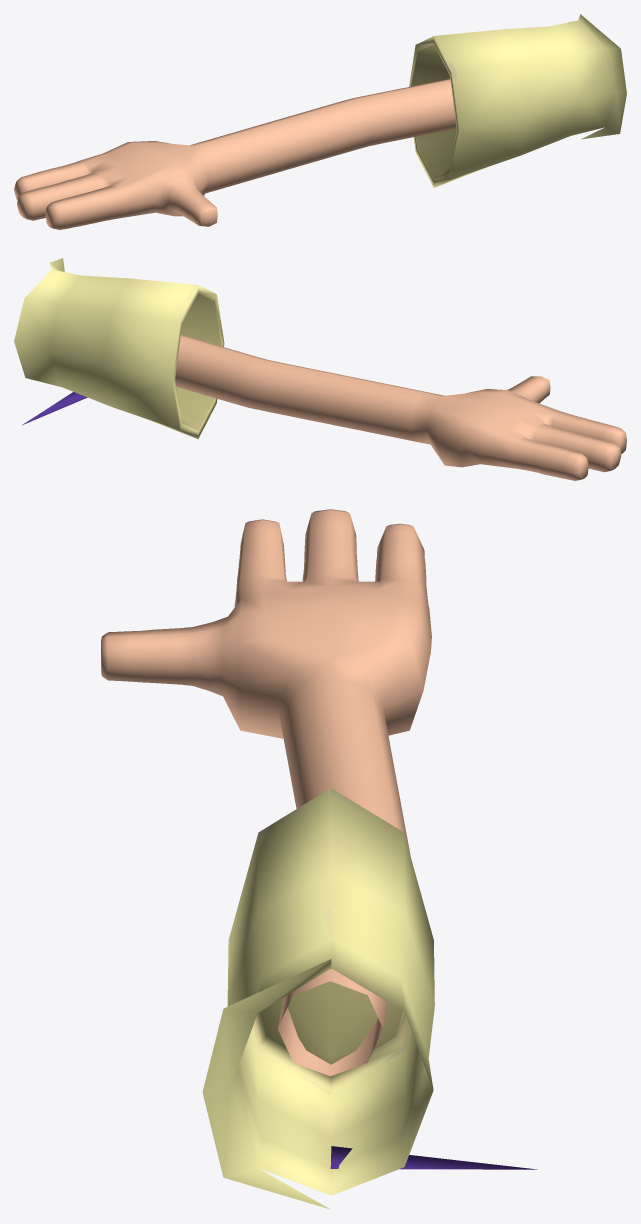
Rendered from Brazo_derechoFerb.obj.
The picture shows the model from 3 angles, top to bottom: view 1: azimuth 30°, elevation 25°; view 2: azimuth 150°, elevation 25°; view 3: azimuth 270°, elevation 25°; orthographic projection. The views are drawn at different scales.
Visible parts, largest first — view 1: BrazoDerecho001; view 2: BrazoDerecho001; view 3: BrazoDerecho001.
Part boxes in pixels (left/top/right/bottom): BrazoDerecho001: left=14, top=14, right=626, bottom=229; BrazoDerecho001: left=14, top=258, right=626, bottom=480; BrazoDerecho001: left=101, top=509, right=537, bottom=1209.
Bounding box in the file's own units: 0.407 × 0.1032 × 0.1349.
